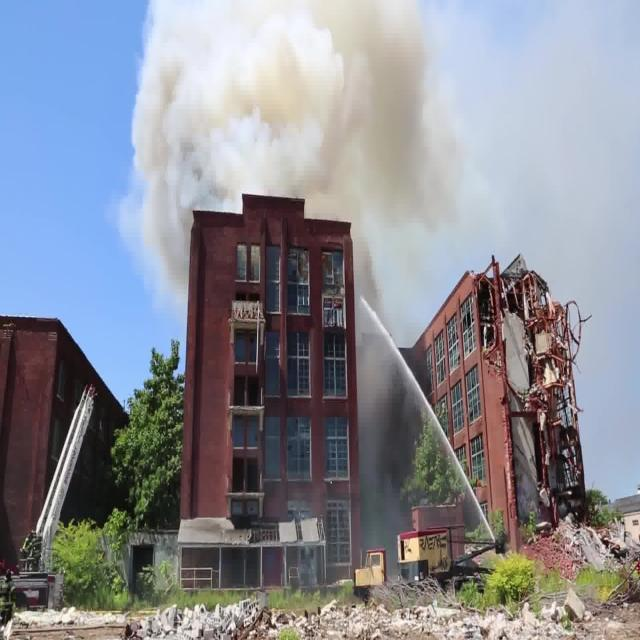Smoke: (128, 5, 460, 273)
